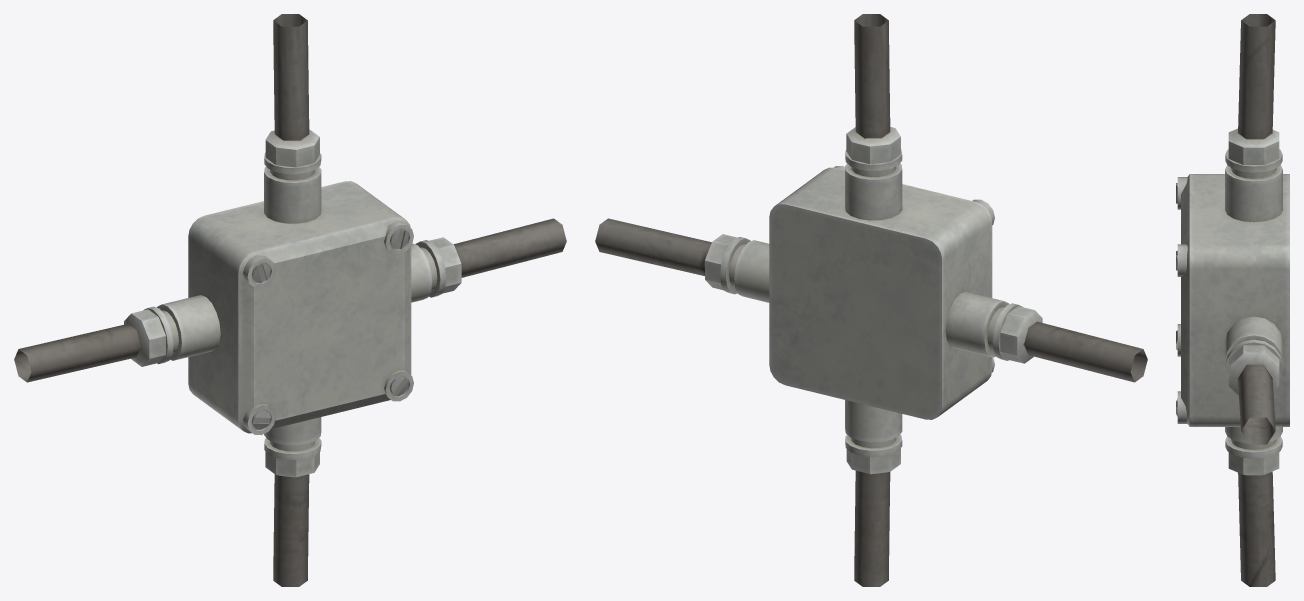
The model's file is cable_cable_box_4way.fbx.
The picture shows the model from 3 angles, left to right: view 1: azimuth 30°, elevation 25°; view 2: azimuth 150°, elevation 25°; view 3: azimuth 270°, elevation 25°; orthographic projection.
Parts seen in each view (by area): view 1: modular_electric_cables_boxes__cable_box_4way; view 2: modular_electric_cables_boxes__cable_box_4way; view 3: modular_electric_cables_boxes__cable_box_4way.
Boxes of the visible parts, x1,y1,x2,y2 form: modular_electric_cables_boxes__cable_box_4way: [14, 14, 566, 586]; modular_electric_cables_boxes__cable_box_4way: [595, 14, 1147, 586]; modular_electric_cables_boxes__cable_box_4way: [1176, 14, 1289, 586].
Size of the model in its own units: 0.2 by 0.2 by 0.0369.
